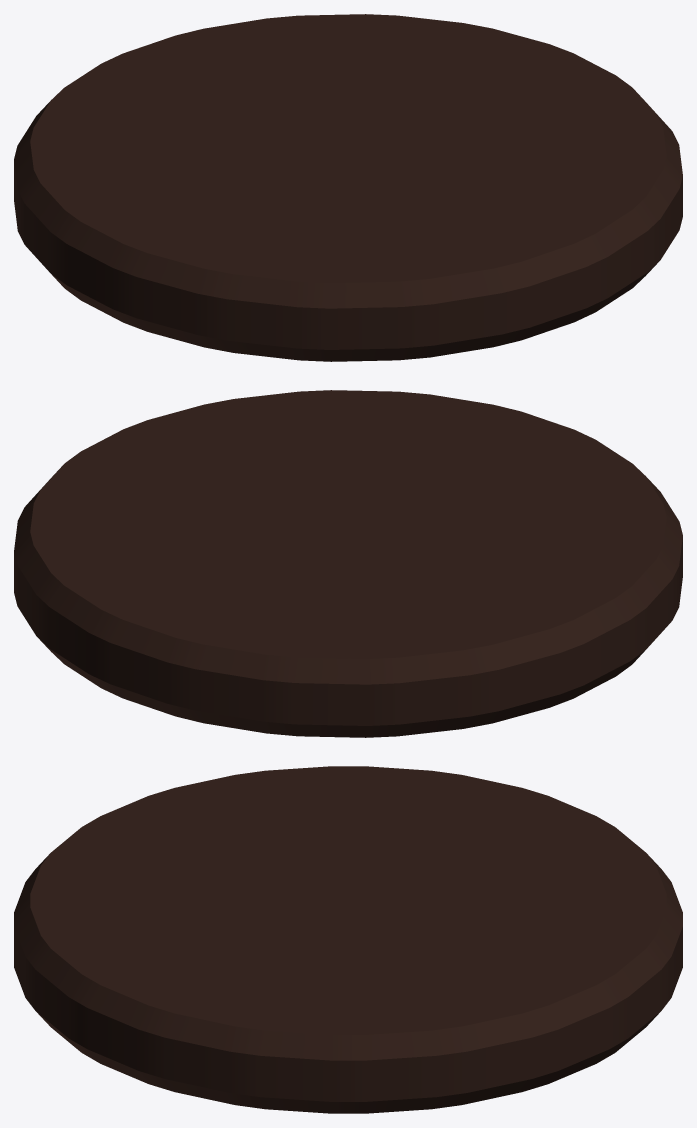
The model's file is BurgerPattyBurnt.fbx.
3 views of the same model, one above another, from view 1: azimuth 30°, elevation 25°; view 2: azimuth 150°, elevation 25°; view 3: azimuth 270°, elevation 25° (orthographic).
Visible parts, largest first — view 1: pCylinder1; view 2: pCylinder1; view 3: pCylinder1.
Boxes of the visible parts, x1,y1,x2,y2 form: pCylinder1: (14,14,682,361); pCylinder1: (14,390,682,737); pCylinder1: (14,766,682,1113).
Bounding box in the file's own units: 5.35 × 0.6937 × 5.35.
